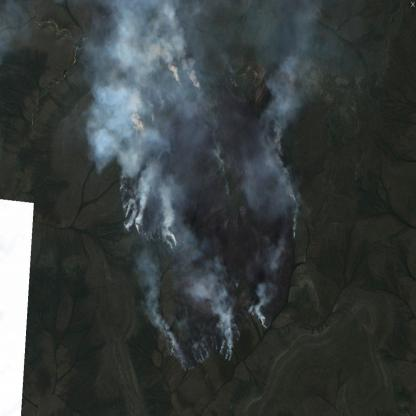fire: (117, 64, 302, 372)
